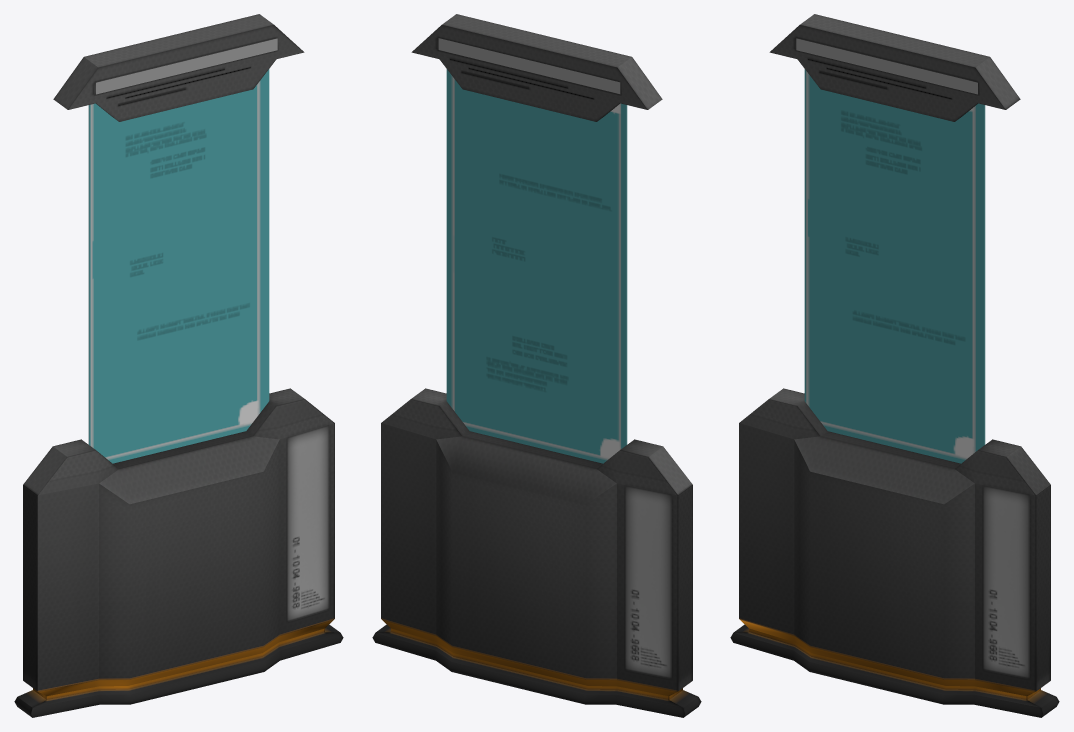
File: InformationTerminal.fbx
3 renders of one model, left to right at view 1: azimuth 30°, elevation 25°; view 2: azimuth 150°, elevation 25°; view 3: azimuth 330°, elevation 25°, orthographic.
Visible parts, largest first — view 1: InformationTerminal_Base, IT_Top1; view 2: InformationTerminal_Base, IT_Top1; view 3: InformationTerminal_Base, IT_Top1.
Boxes of the visible parts, x1,y1,x2,y2 form: InformationTerminal_Base: (14,388,343,717); IT_Top1: (53,14,304,463); InformationTerminal_Base: (372,388,701,717); IT_Top1: (411,14,662,463); InformationTerminal_Base: (730,388,1059,717); IT_Top1: (769,14,1020,463).
Size of the model in its own units: 2.97 by 5.75 by 0.6601.
3 materials, 2 textured.
